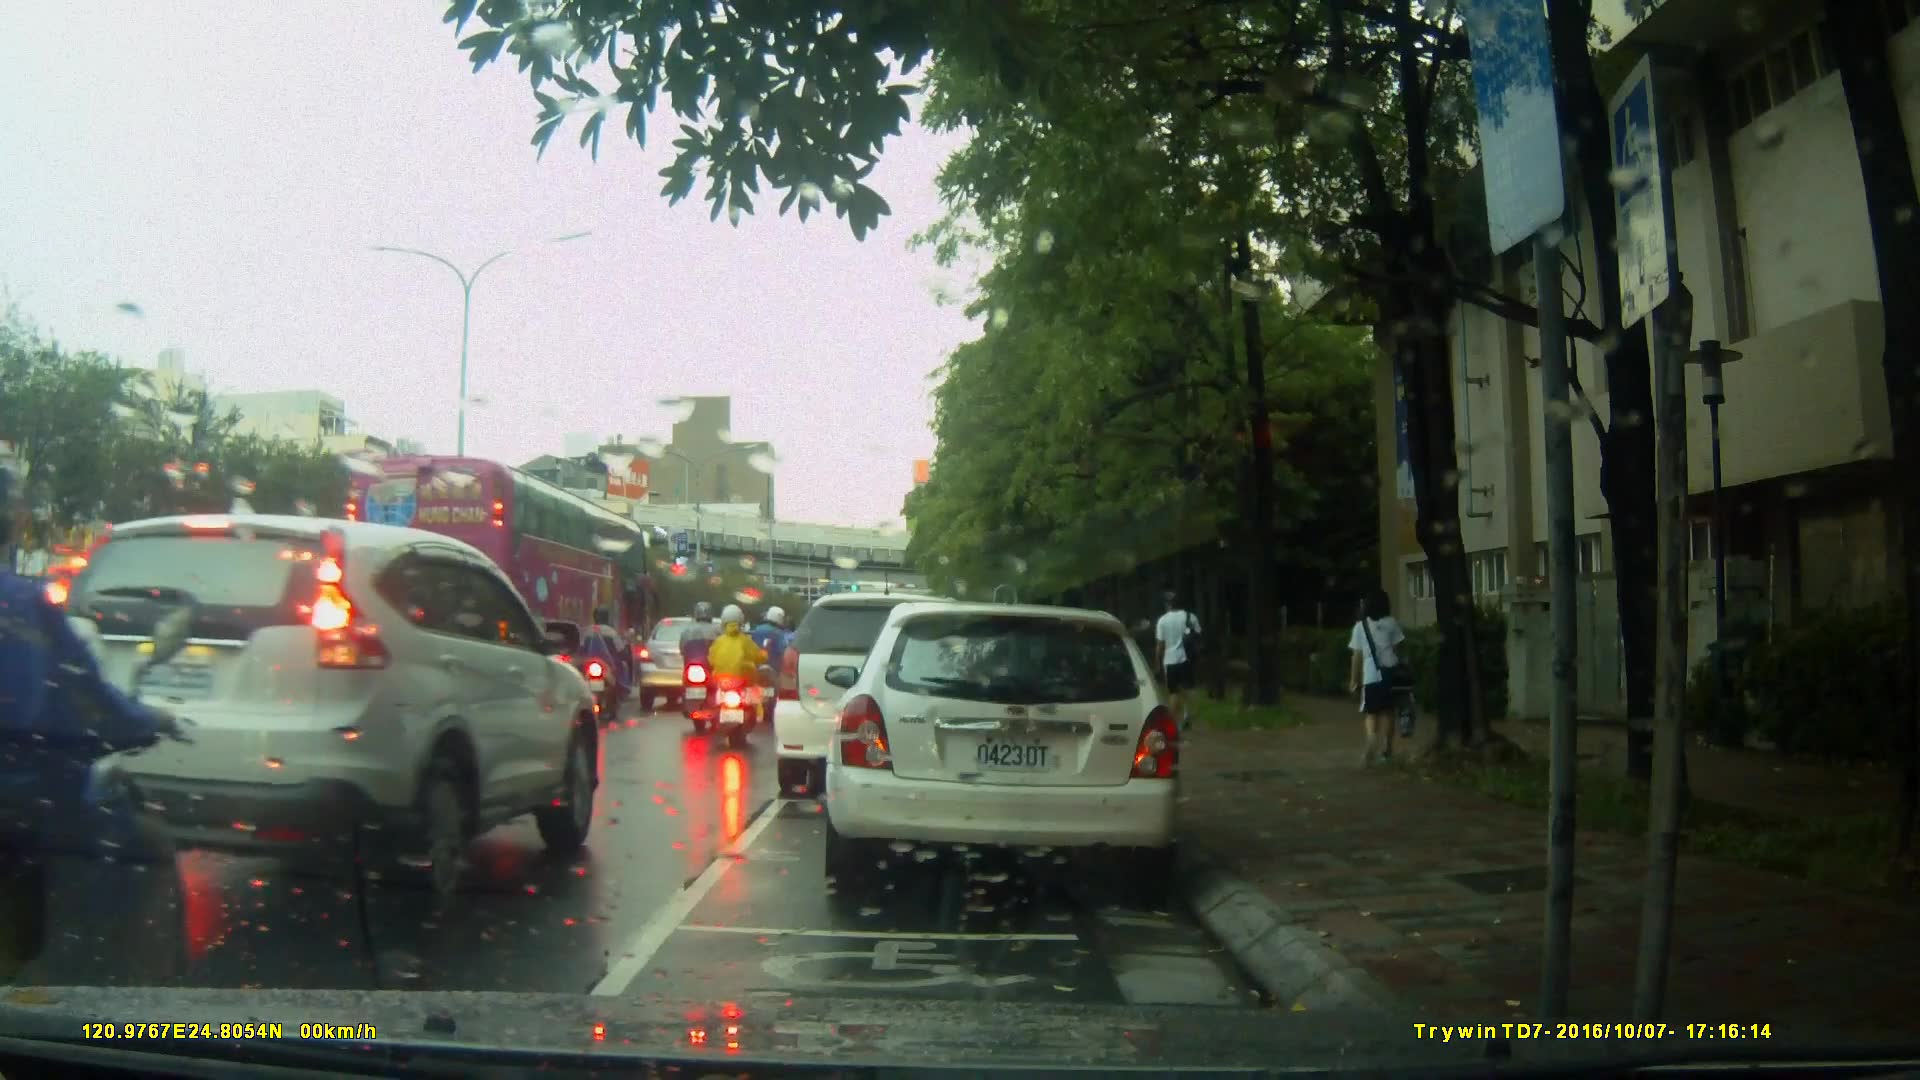pedestrian: (1335, 581, 1420, 781), (1151, 588, 1203, 730)
rider: (1, 492, 182, 1059), (703, 603, 759, 751), (671, 596, 725, 729), (571, 605, 636, 713), (748, 605, 799, 716)
vehicle: (16, 504, 595, 940), (835, 594, 1194, 898), (331, 456, 658, 693), (776, 590, 1026, 784), (638, 616, 753, 705)
